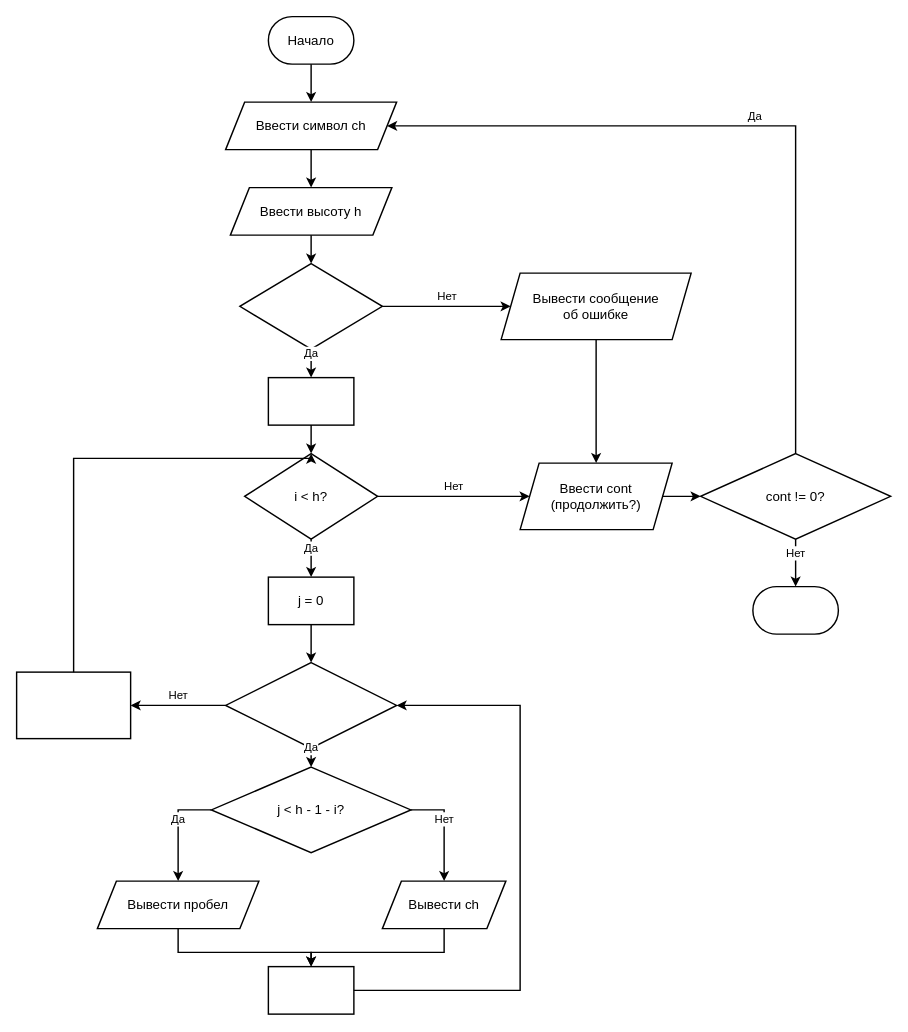
This 908x1032 diagram has some shape labels left out. Here are the shapes that lost their labels. From the top down, the centre of each, then its label:
At pixel 311 305: "h > 0?".
At pixel 310 400: "i = 0".
At pixel 795 609: "Конец".
At pixel 73 705: "Вывести '\n' i = i + 1".
At pixel 310 704: "j < h + i?".
At pixel 310 989: "j = j + 1".
